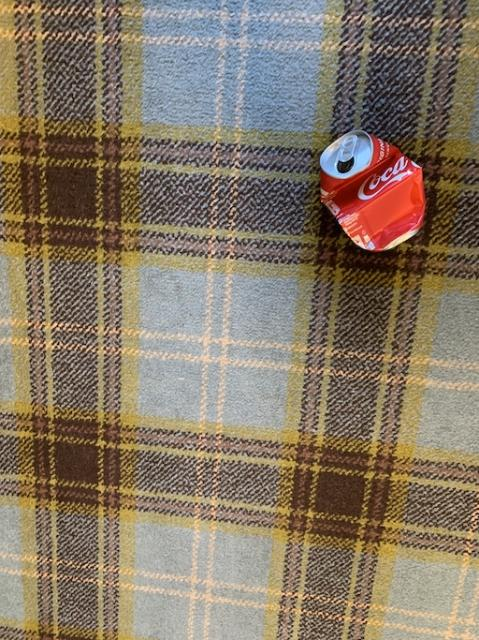metal: (320, 129, 424, 249)
